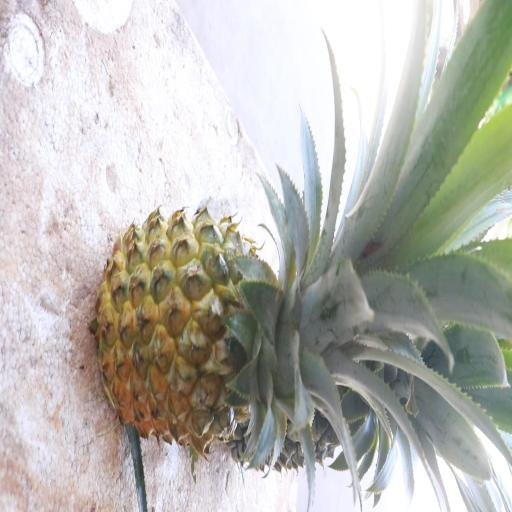Pineapple - v8 v1: (94, 201, 372, 459)
